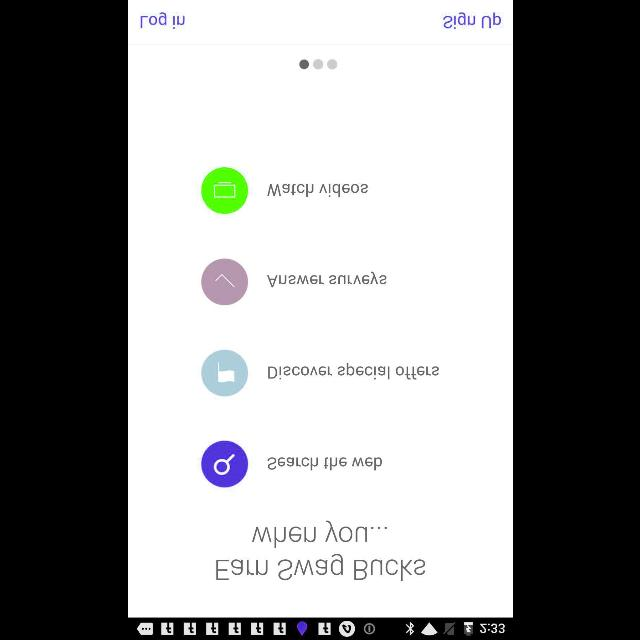icon: (200, 440, 248, 488), (200, 258, 248, 306)
image: (200, 166, 248, 214), (200, 349, 248, 396)
pageindicator: (298, 59, 338, 70)
text: (216, 520, 424, 580), (267, 362, 438, 380), (266, 270, 386, 288), (266, 456, 382, 470), (266, 183, 368, 197), (442, 12, 500, 30), (140, 12, 184, 30)
uppertaskbar: (128, 617, 512, 639)
